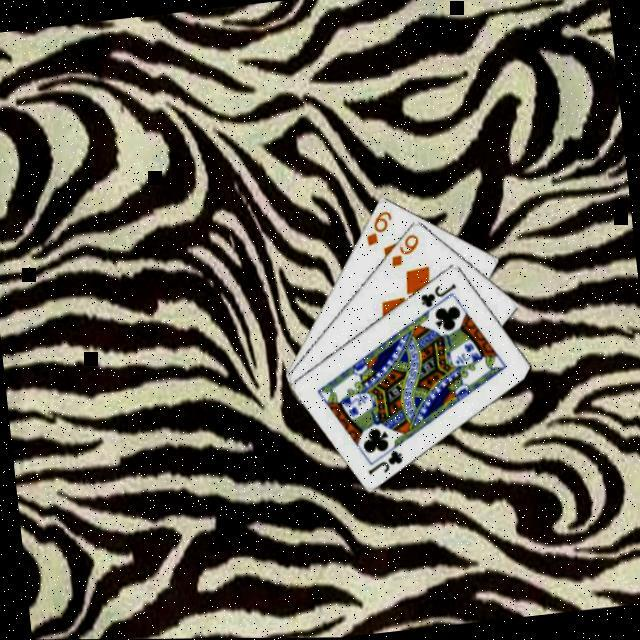6D: (360, 206, 396, 248)
9D: (384, 230, 422, 268)
JC: (361, 445, 406, 477), (415, 280, 459, 310)
